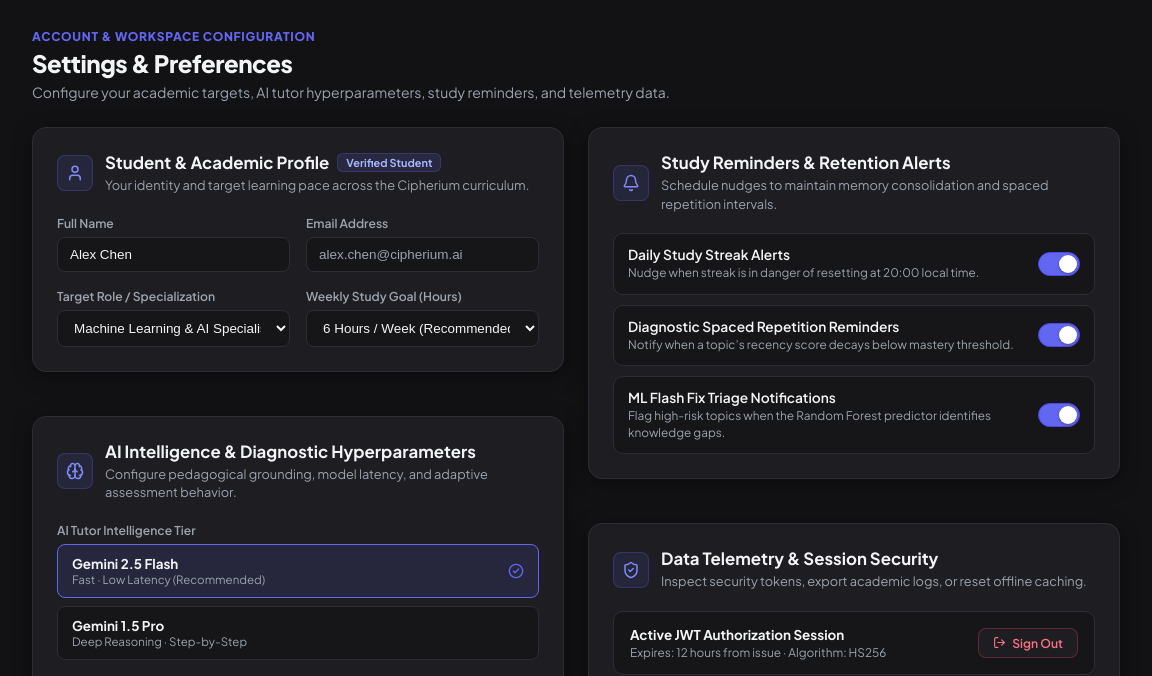
Scenario: SettingsView Component › toggles notification switches cleanly
The image size is (1152, 676).
Click the switch named "Daily Study Streak Alerts" in the row of "Daily Study Streak Alerts": {"x": 1059, "y": 264} [1038,252,1080,276]
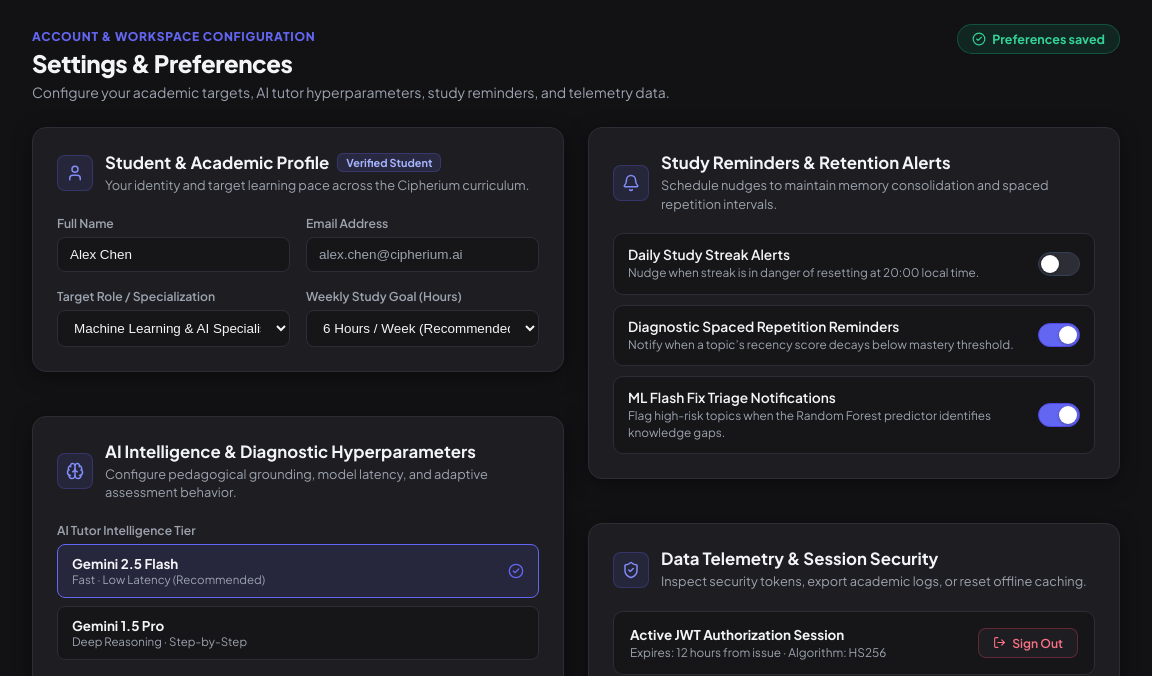
expect the text "Preferences saved" is shown: met, box [992,31,1105,47]
